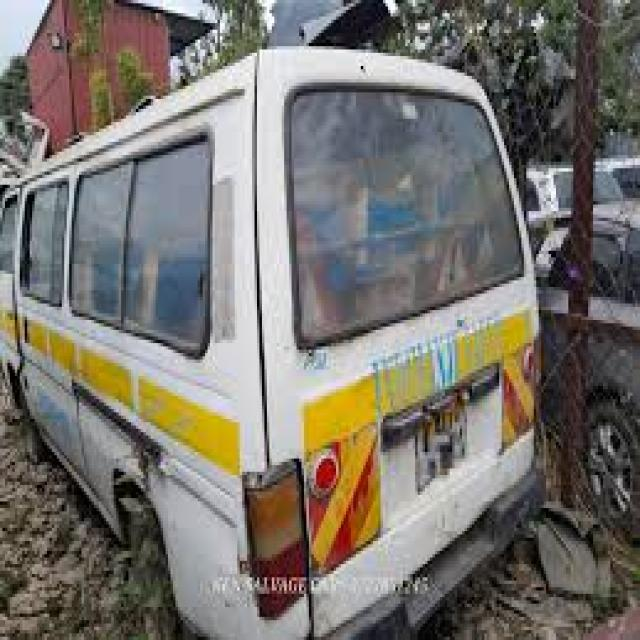matatu: (0, 28, 580, 640)
